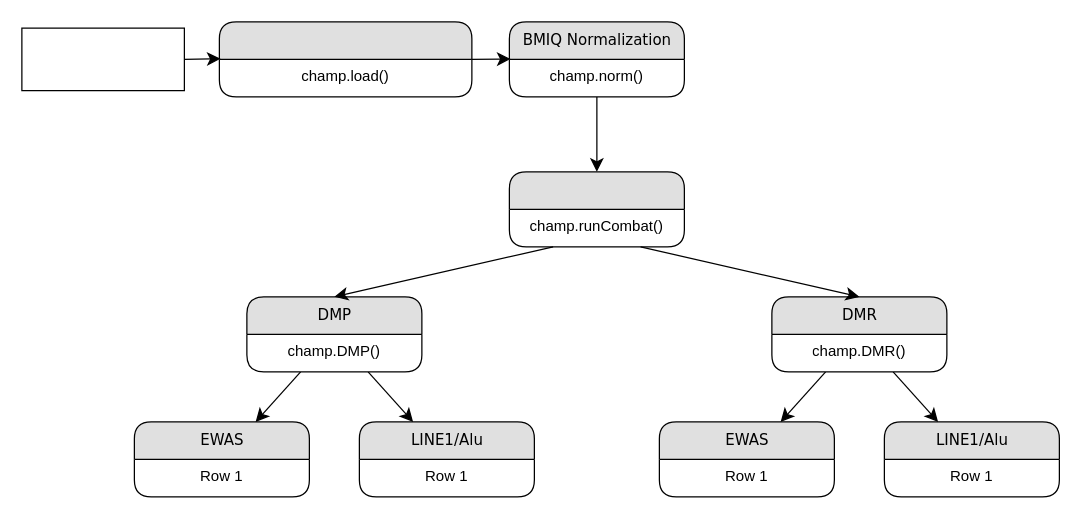
Image size: 1081x523. Some labels were removed from this diagram. The shapes that lost their labels are listed below. From the top down, each one's box as (x1, y1, x2, y2) in pixels, then its label:
(21, 27, 184, 91): EPIC 850k
(218, 21, 472, 97): Data importation and filtering
(508, 171, 684, 247): Batch correction
